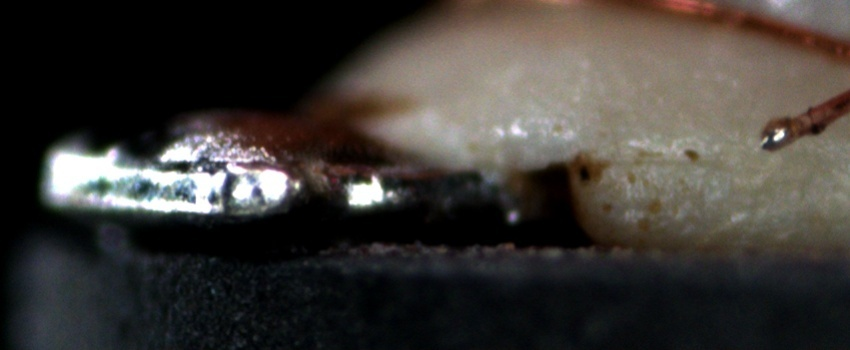DL: (602, 138, 724, 188)
